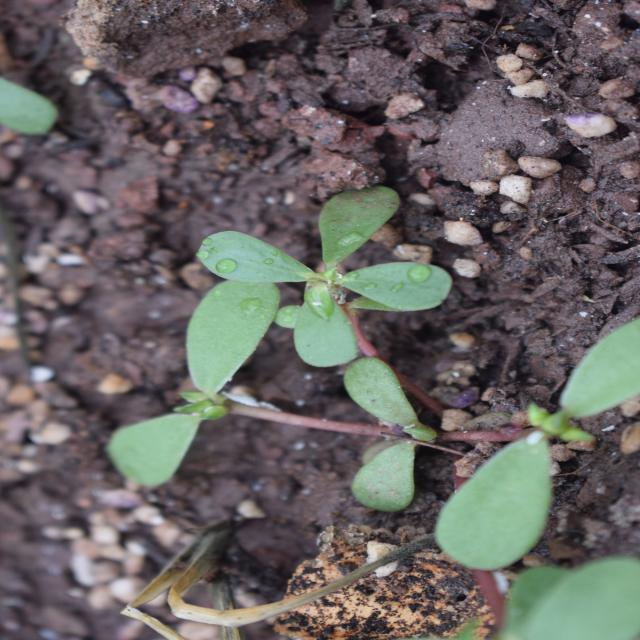purslane: (57, 120, 447, 565)
